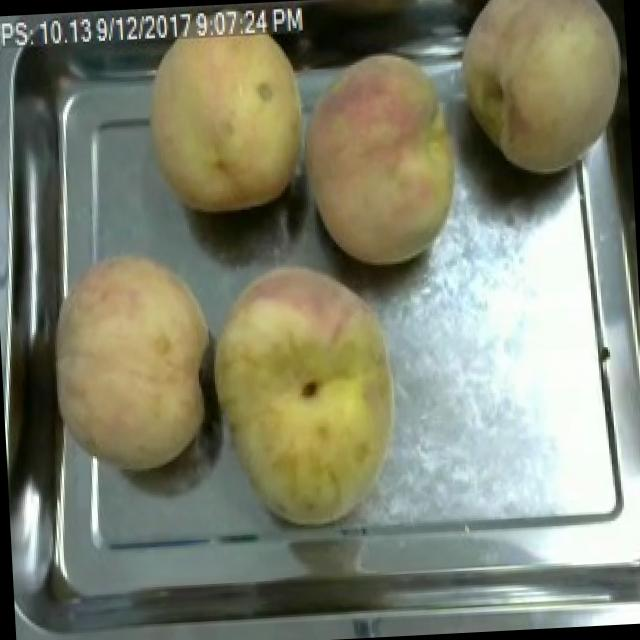Fruit: (194, 246, 420, 540), (30, 236, 230, 484), (288, 42, 478, 281), (134, 8, 322, 224), (443, 0, 633, 191)
